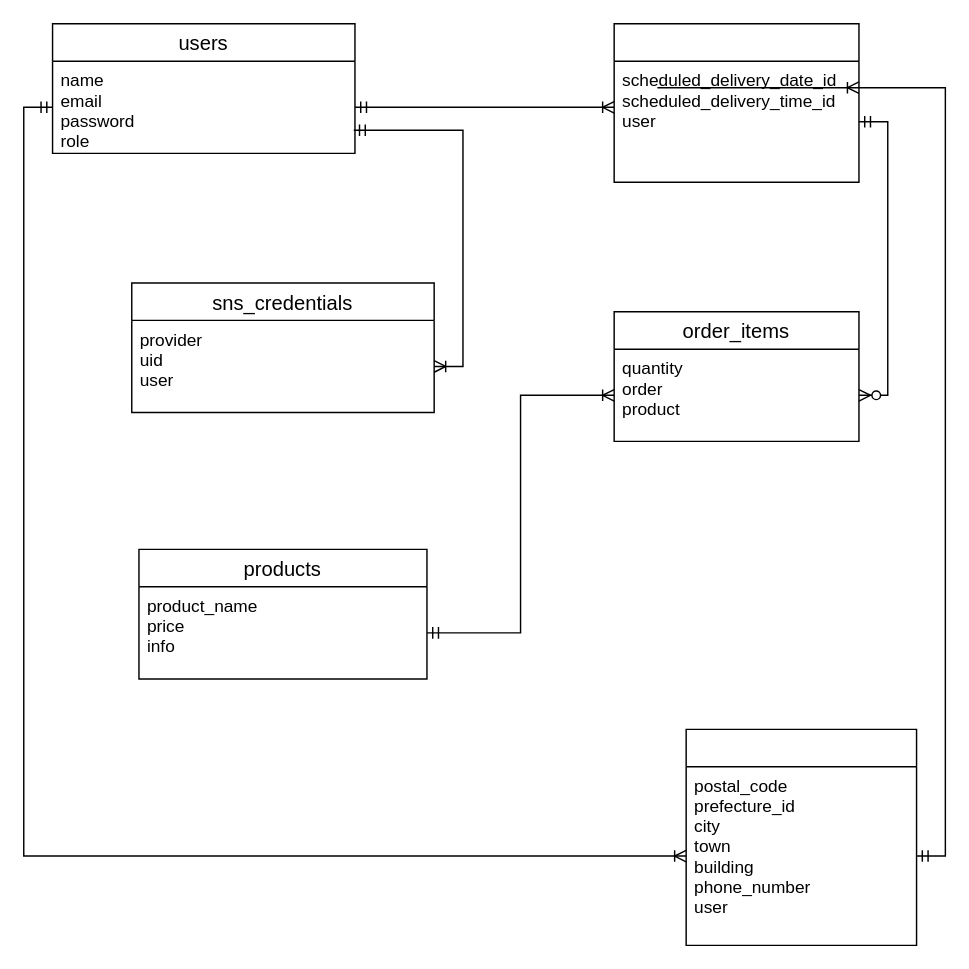
This 969x969 diagram has some shape labels left out. The box of each missing label's shape, as (x1, y1, x2, y2) in pixels:
addresses: (685, 728, 917, 945)
orders: (613, 22, 859, 182)
